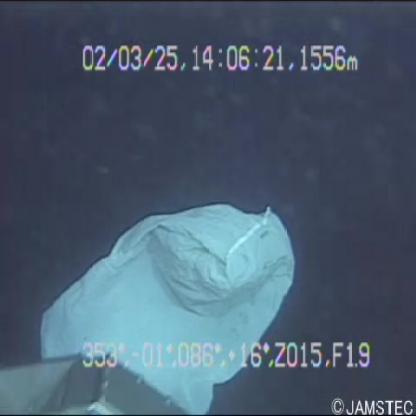Rov: (3, 342, 192, 416)
Rác: (30, 167, 296, 416)
